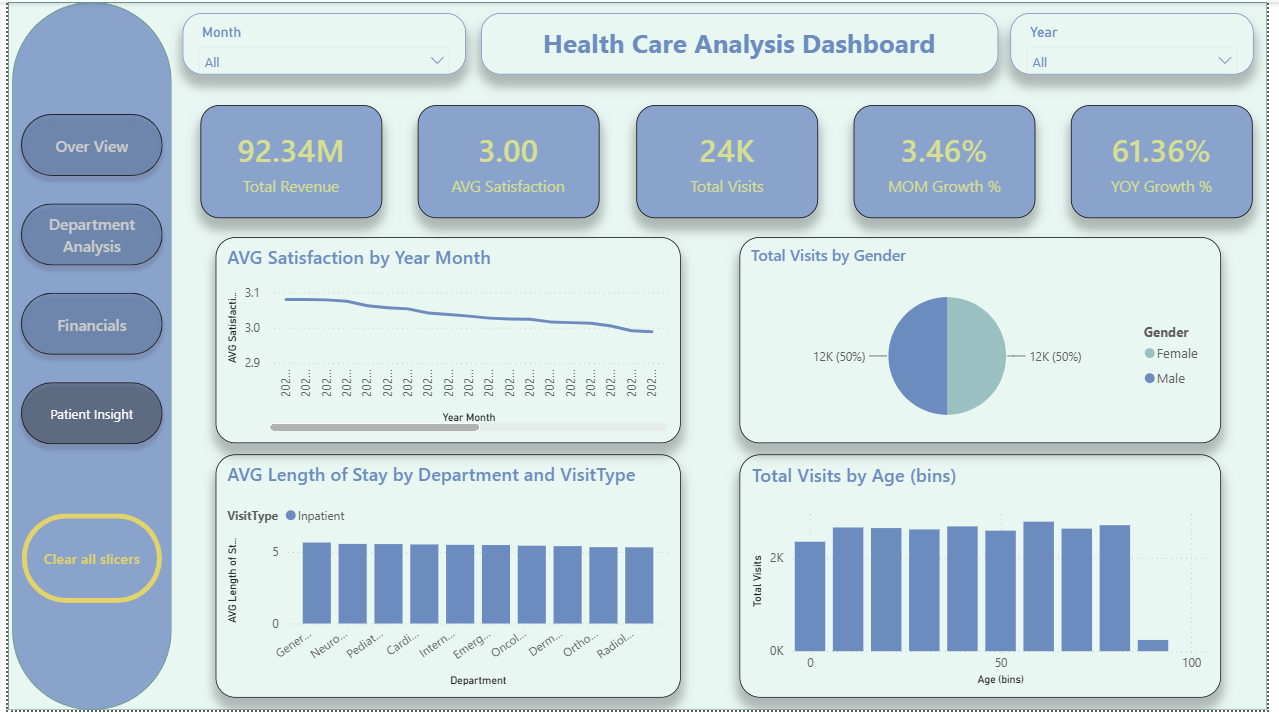

Layout of this report page (visuals, bound fields, positions):
{"tool":"powerbi","page":{"name":"Patient Insight","canvas":[1280,720],"ordinal":3},"visuals":[{"type":"shape","box":[0,0,1280,720],"z":0},{"type":"card","fields":{"Values":["healthcare_visits.AVG Satisfaction"]},"box":[417.1,104.8,184.5,115],"z":1000},{"type":"lineChart","fields":{"Category":["DateTable.Year Month"],"Y":["healthcare_visits.AVG Satisfaction"]},"box":[211,239,472.4,209.6],"z":2000},{"type":"columnChart","fields":{"Category":["healthcare_visits.Department"],"Series":["healthcare_visits.VisitType"],"Y":["healthcare_visits.AVG Length of Stay"]},"box":[211,459.8,472.4,247.4],"z":3000},{"type":"columnChart","fields":{"Category":["healthcare_visits.Age (bins)"],"Y":["healthcare_visits.Total Visits"]},"box":[743.5,459.8,489.2,247.4],"z":4000},{"type":"pieChart","fields":{"Category":["healthcare_visits.Gender"],"Y":["healthcare_visits.Total Visits"]},"box":[743.5,239,489.2,209.6],"z":5000},{"type":"card","fields":{"Values":["healthcare_visits.Total Revenue"]},"box":[195.7,104.8,185,115],"z":6000},{"type":"card","fields":{"Values":["healthcare_visits.YOY Growth %"]},"box":[1080.9,104.6,185,115],"z":7000},{"type":"card","fields":{"Values":["healthcare_visits.Total Visits"]},"box":[638,104.6,185,115],"z":8000},{"type":"card","fields":{"Values":["healthcare_visits.MOM Growth %"]},"box":[859.4,104.6,185,115],"z":9000},{"type":"shape","box":[4.2,0,162.1,719.8],"z":10000},{"type":"textbox","box":[480.8,11.2,525.5,62.9],"z":11000},{"type":"slicer","fields":{"Values":["DateTable.Year"]},"box":[1018.8,11.2,247.4,62.9],"z":12000},{"type":"slicer","fields":{"Values":["DateTable.Month"]},"box":[177.5,11.2,287.9,62.9],"z":13000},{"type":"pageNavigator","box":[4.2,104.8,162.1,355],"z":14000},{"type":"actionButton","box":[14,519.9,142.6,90.8],"z":15000}]}

Visuals, with their boxes in screenshot pixels (x1, y1, x2, y2), scaled from the page's 1280x720 canvas onto the 1279x714 screenshot:
shape: detection(0, 0, 1278, 713)
card - healthcare_visits.AVG Satisfaction: detection(417, 104, 601, 218)
lineChart - DateTable.Year Month x healthcare_visits.AVG Satisfaction: detection(211, 237, 683, 445)
columnChart - healthcare_visits.Department x healthcare_visits.VisitType: detection(211, 456, 683, 701)
columnChart - healthcare_visits.Age (bins) x healthcare_visits.Total Visits: detection(743, 456, 1232, 701)
pieChart - healthcare_visits.Gender x healthcare_visits.Total Visits: detection(743, 237, 1232, 445)
card - healthcare_visits.Total Revenue: detection(196, 104, 380, 218)
card - healthcare_visits.YOY Growth %: detection(1080, 104, 1265, 218)
card - healthcare_visits.Total Visits: detection(638, 104, 822, 218)
card - healthcare_visits.MOM Growth %: detection(859, 104, 1044, 218)
shape: detection(4, 0, 166, 713)
textbox: detection(480, 11, 1006, 73)
slicer - DateTable.Year: detection(1018, 11, 1265, 73)
slicer - DateTable.Month: detection(177, 11, 465, 73)
pageNavigator: detection(4, 104, 166, 456)
actionButton: detection(14, 516, 156, 606)
